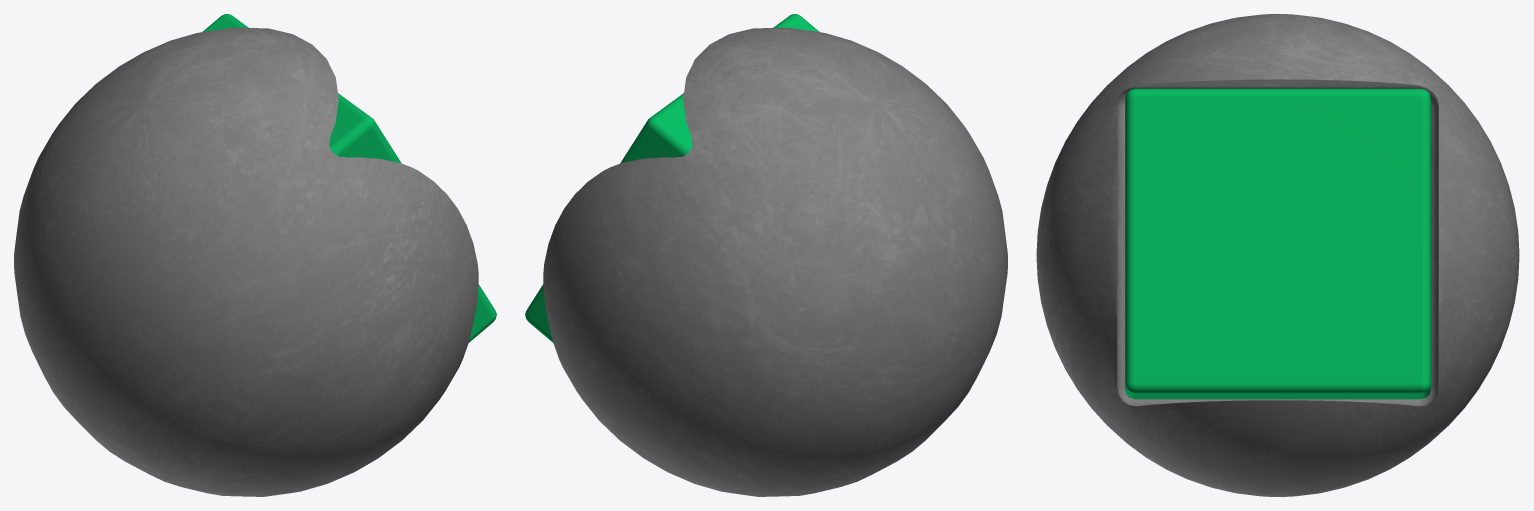
Rendered from terminal.fbx.
3 renders of one model, left to right at view 1: azimuth 30°, elevation 25°; view 2: azimuth 150°, elevation 25°; view 3: azimuth 270°, elevation 25°, orthographic. The views are drawn at different scales.
Visible parts, largest first — view 1: Terminal, terminal_screen; view 2: Terminal, terminal_screen; view 3: terminal_screen, Terminal.
Part boxes in pixels (<box>): Terminal: <box>14,27,478,496</box>; terminal_screen: <box>202,14,496,343</box>; Terminal: <box>543,27,1007,496</box>; terminal_screen: <box>525,14,819,343</box>; terminal_screen: <box>1125,88,1430,399</box>; Terminal: <box>1036,14,1519,496</box>.
Size of the model in its own units: 0.7413 by 0.7496 by 0.75.
Materials: 2 (1 with a texture image).
